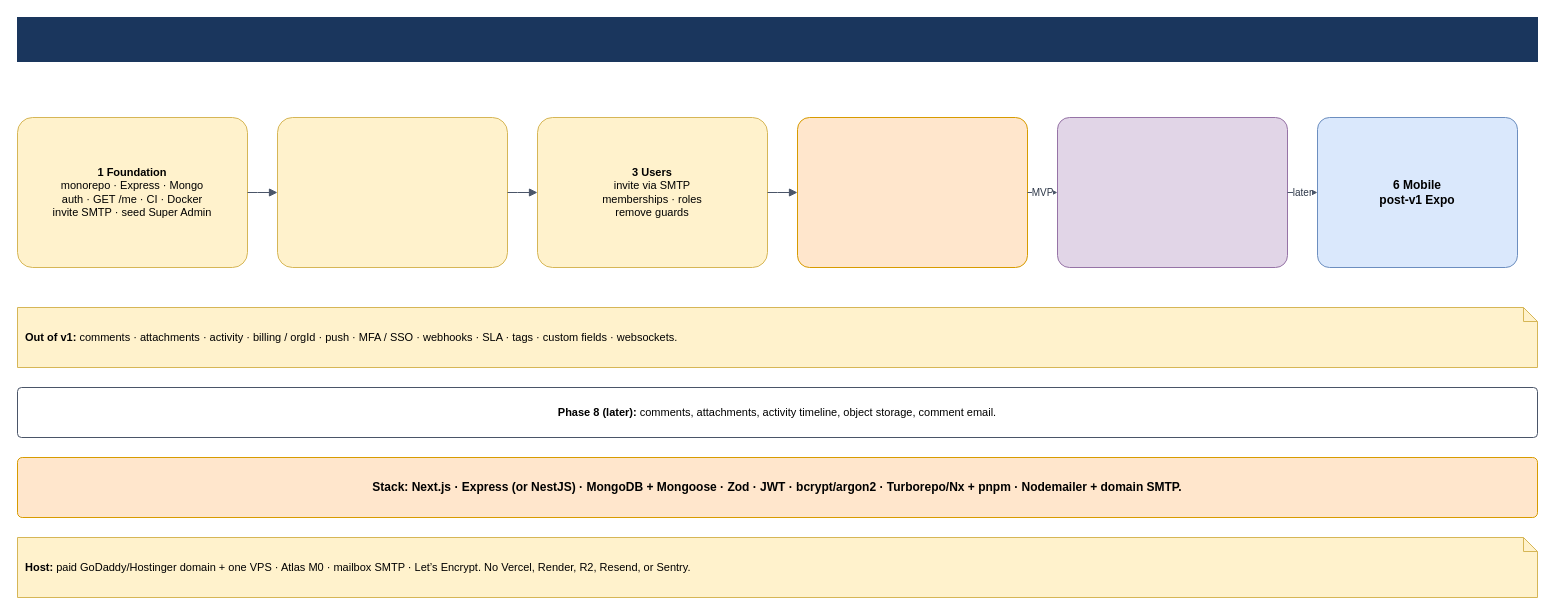
The diagram is 1555 pixels wide and 615 high, and some of its shapes have lost their labels. The centre of each missing label's shape, as x and y in pixels:
"2 Projects CRUD · key · types soft-delete / restore read-only rules" belongs at [392,192].
"4 Tickets IDs · assign · status web screens no comments/files" belongs at [912,192].
"5 Insights + mail dashboards assign/status SMTP customer panel" belongs at [1172,192].
"Delivery plan — MVP is phases 1–5 (web only)" belongs at [777,39].
